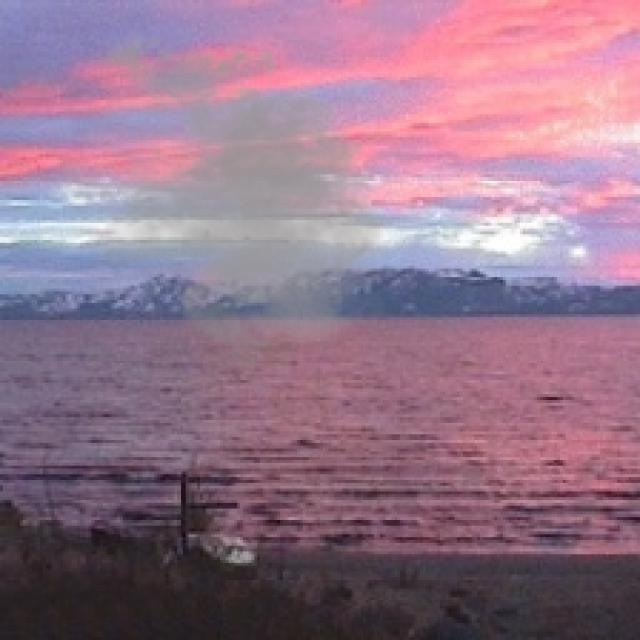smoke: (43, 26, 411, 374)
